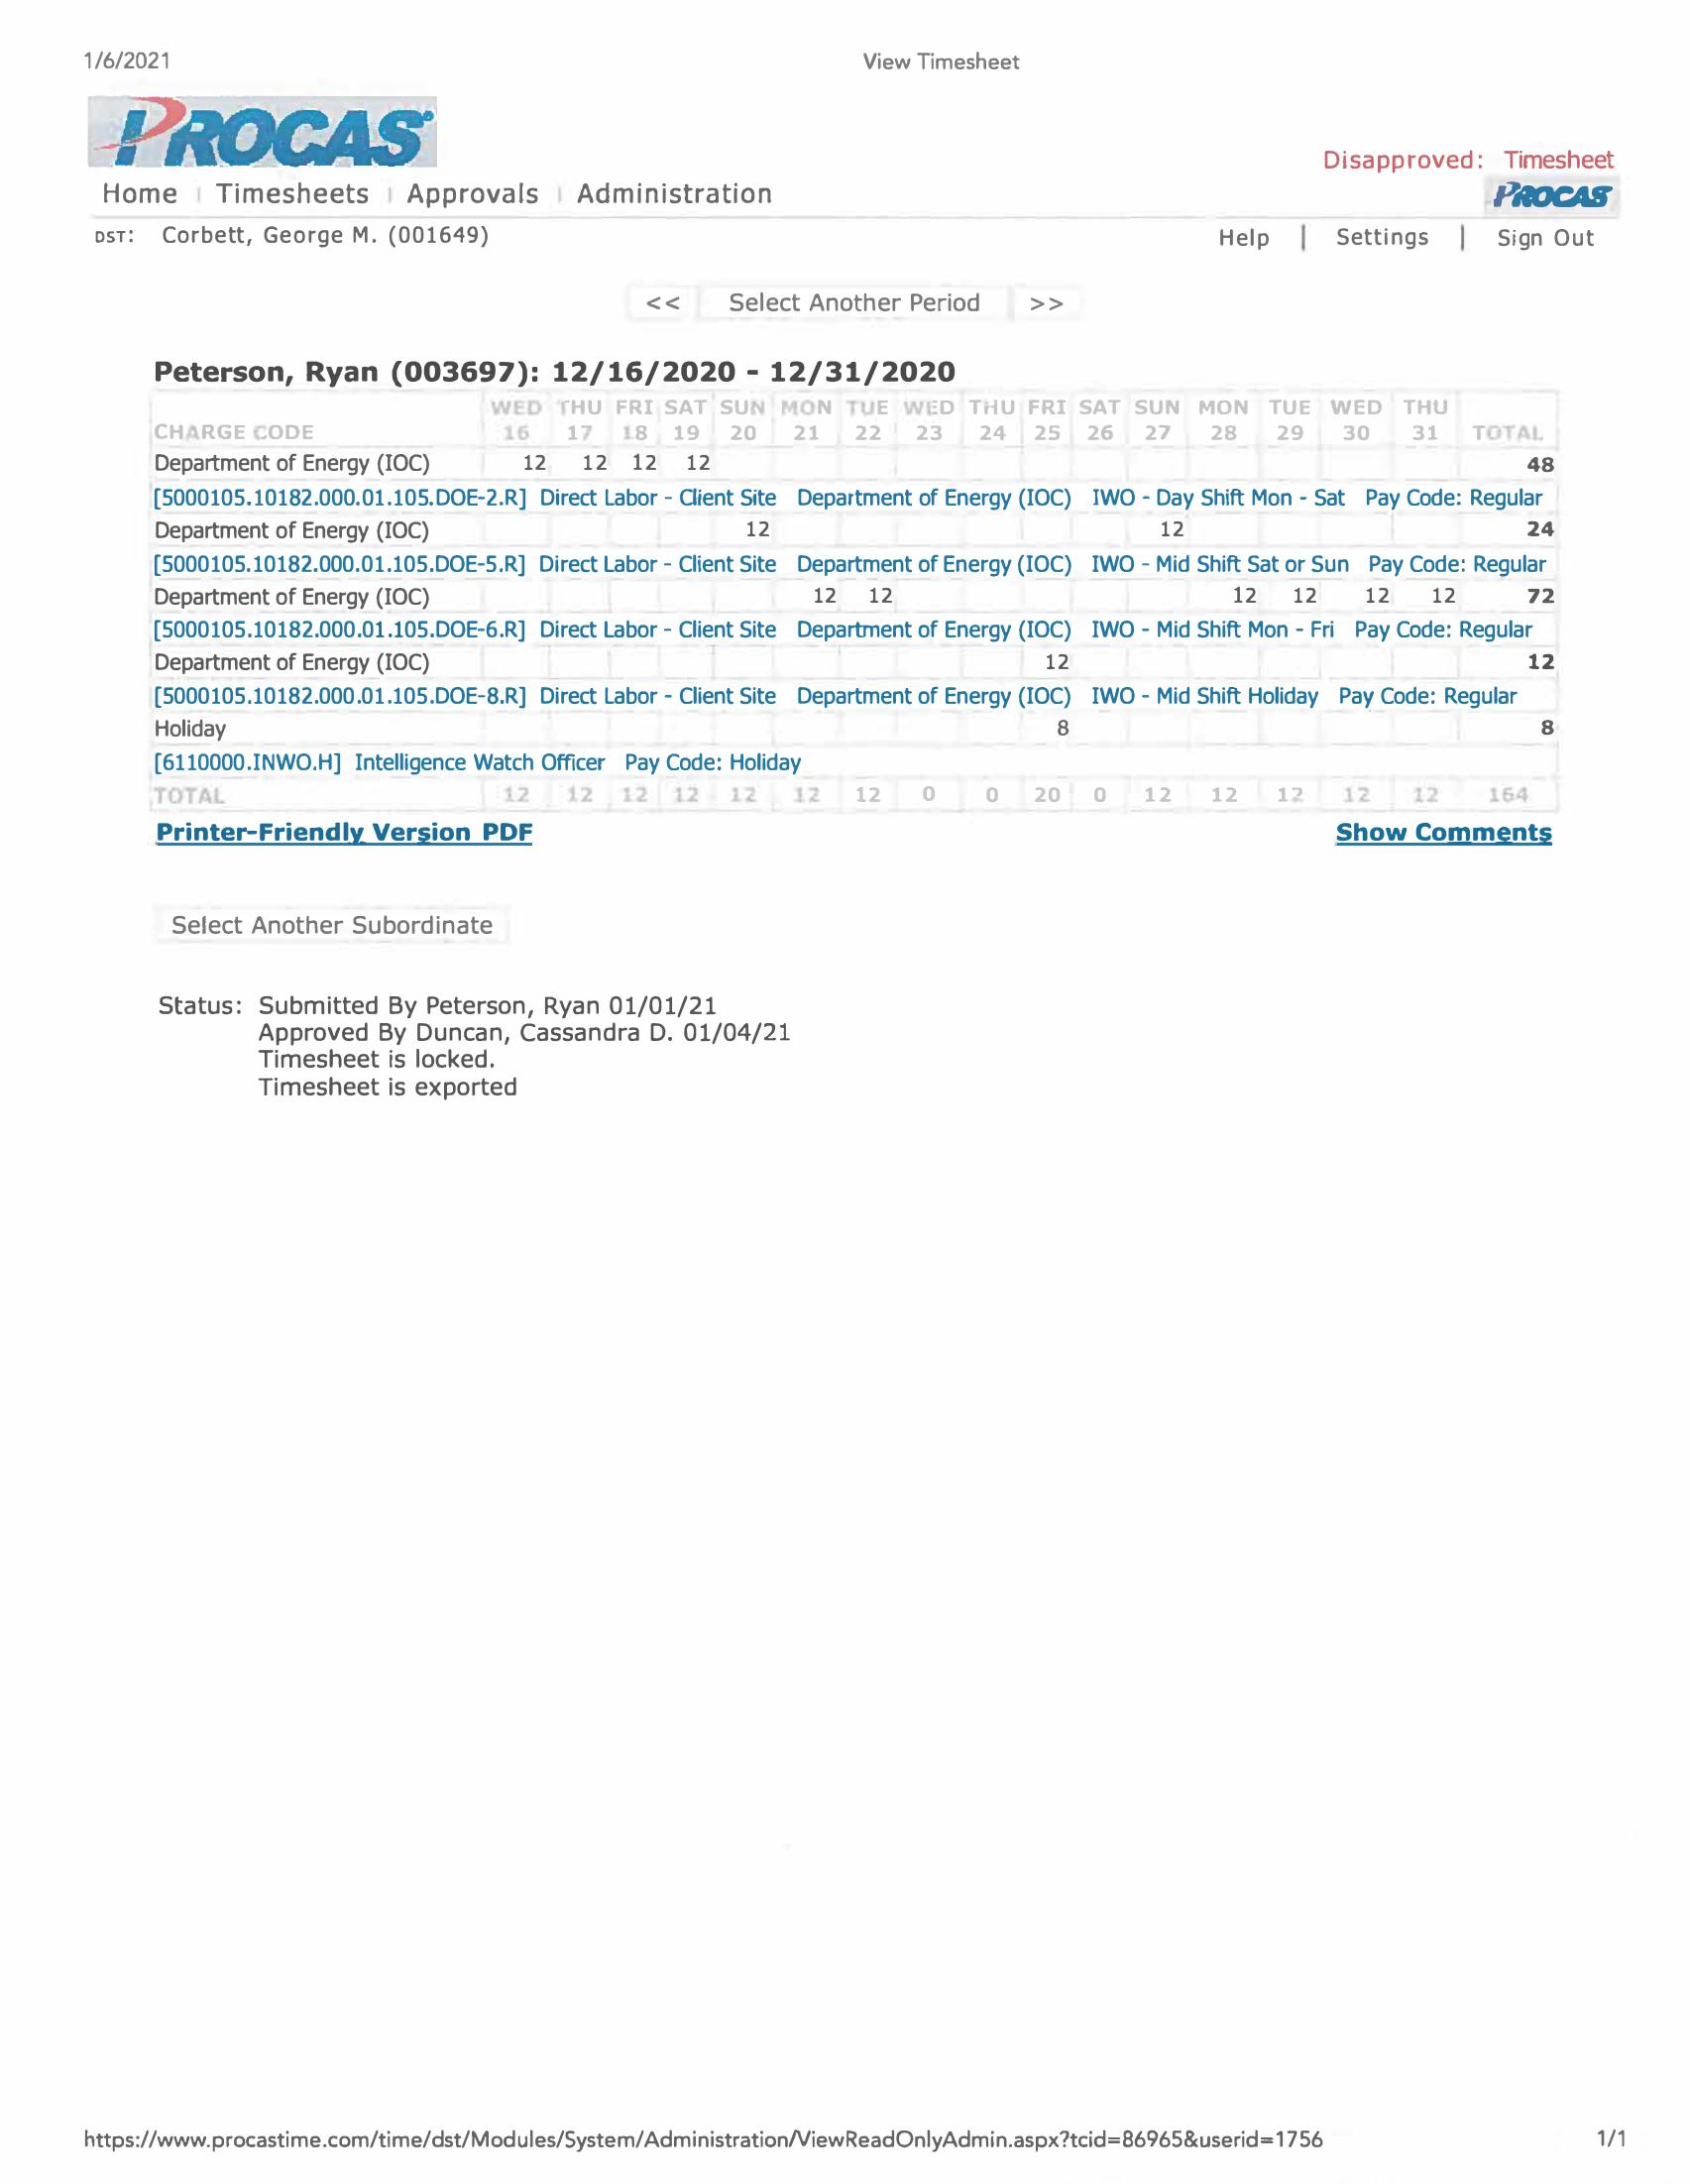table: (147, 385, 1592, 810)
